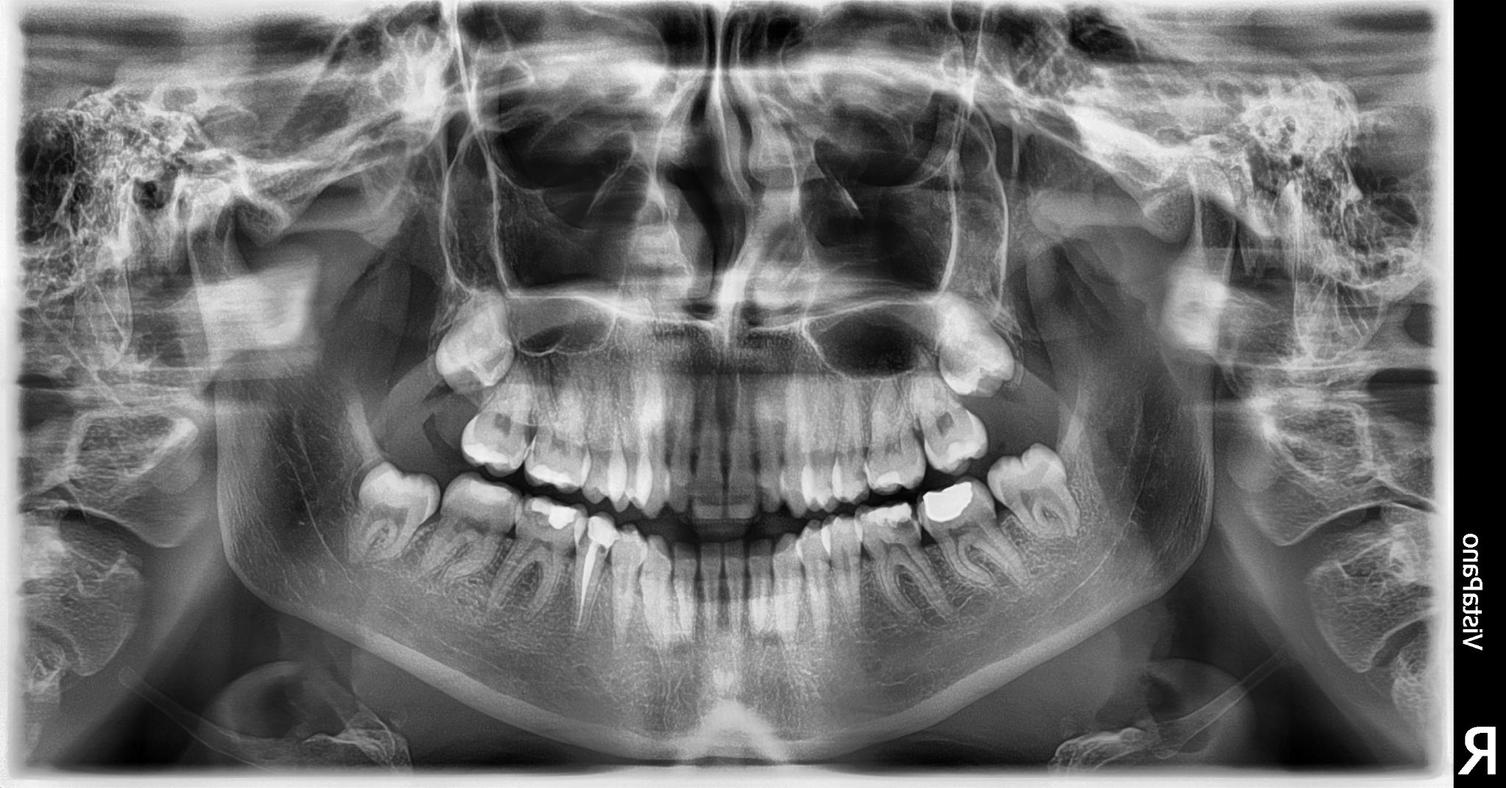Premolars: (474, 306, 1387, 788), (551, 277, 1506, 723), (464, 234, 1379, 643), (456, 152, 1394, 530), (435, 242, 1298, 625), (274, 298, 866, 788), (277, 366, 900, 788), (302, 246, 891, 685), (266, 236, 802, 641), (212, 277, 658, 753), (232, 217, 751, 563)
